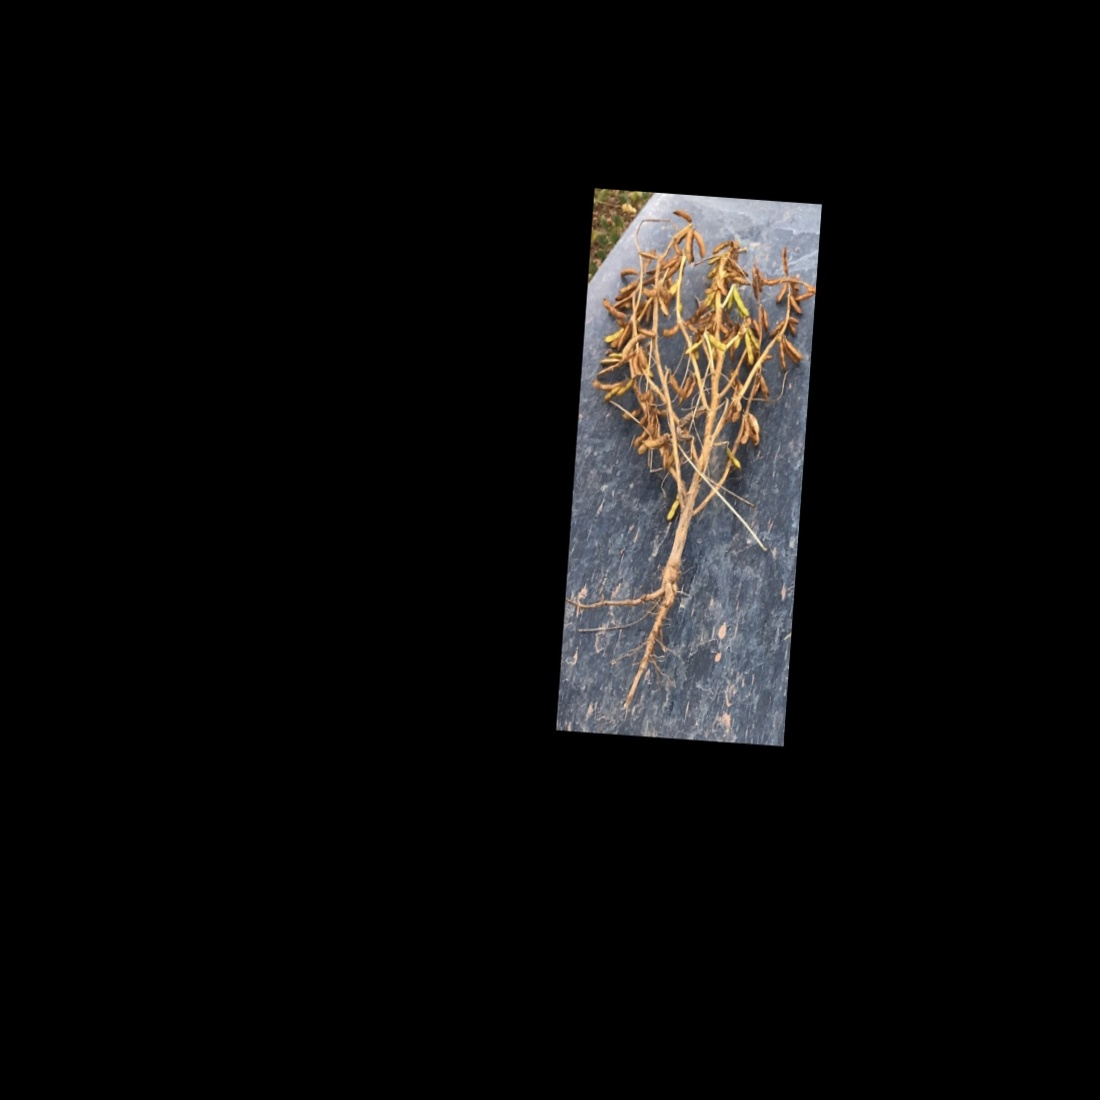pod: (729, 283, 752, 318), (738, 328, 757, 368), (597, 296, 628, 319), (690, 228, 708, 262), (640, 434, 671, 452), (771, 280, 790, 308), (775, 337, 790, 373), (615, 376, 636, 401), (669, 205, 695, 225), (659, 324, 683, 340), (788, 295, 805, 317), (709, 239, 732, 255), (616, 265, 640, 281)
soy: (568, 199, 816, 704)
